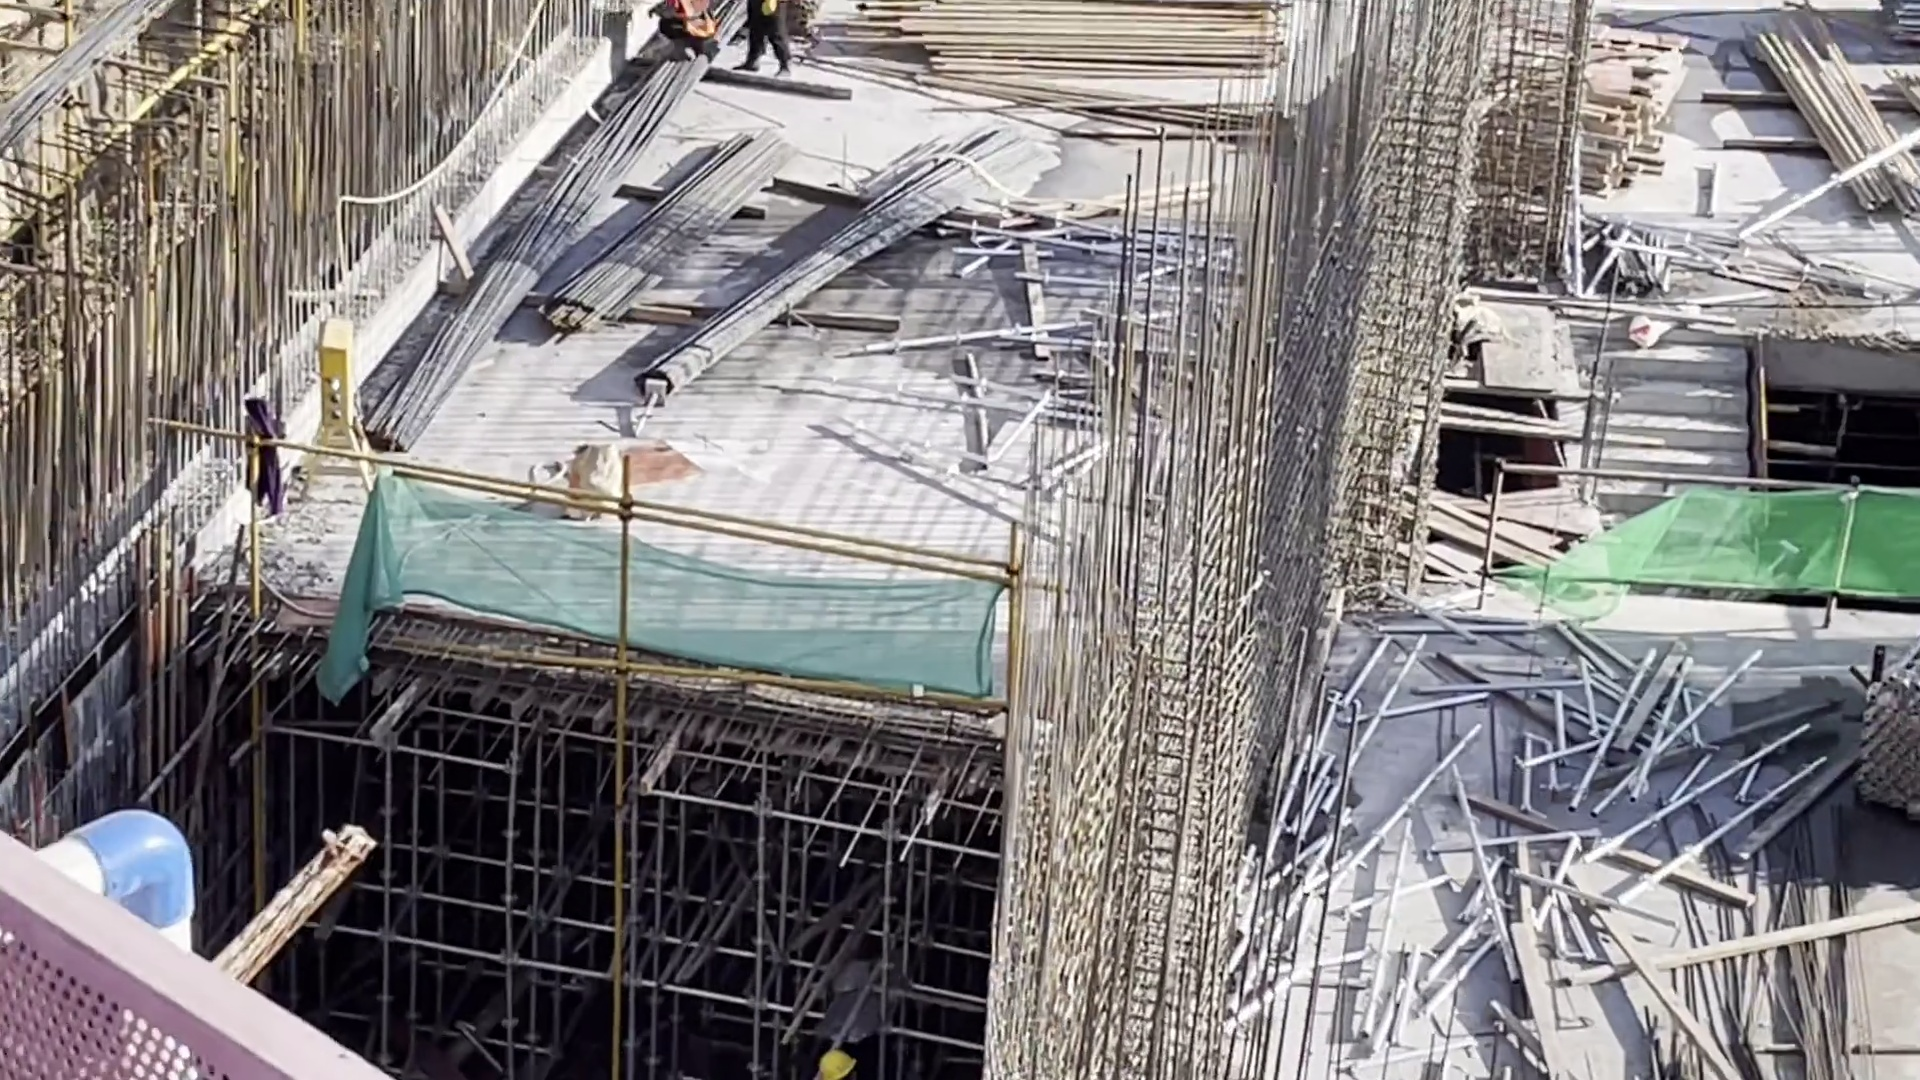ebox: (308, 329, 353, 464)
fence: (9, 904, 321, 1080)
helmet: (809, 1049, 857, 1080)
person: (730, 1, 804, 72), (650, 1, 730, 63)
rebar: (379, 85, 672, 423), (676, 154, 997, 394), (579, 155, 776, 326), (1779, 885, 1861, 1080)
scaffold: (1858, 662, 1920, 812)
vest: (655, 1, 720, 42)
wood: (1508, 93, 1653, 191)
